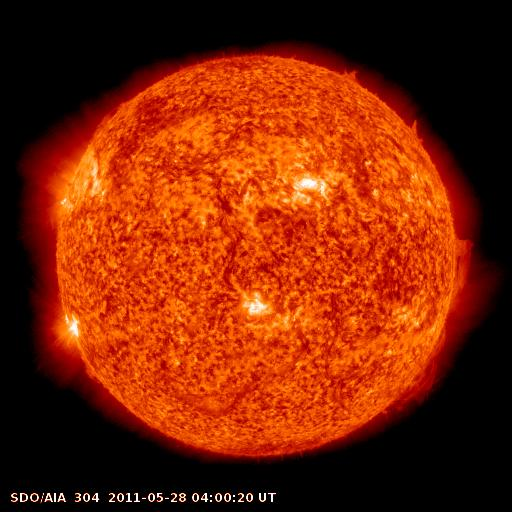prominence: (372, 320, 452, 417), (444, 232, 482, 314), (85, 92, 138, 138), (73, 349, 115, 392), (397, 111, 434, 148), (335, 59, 363, 84)
